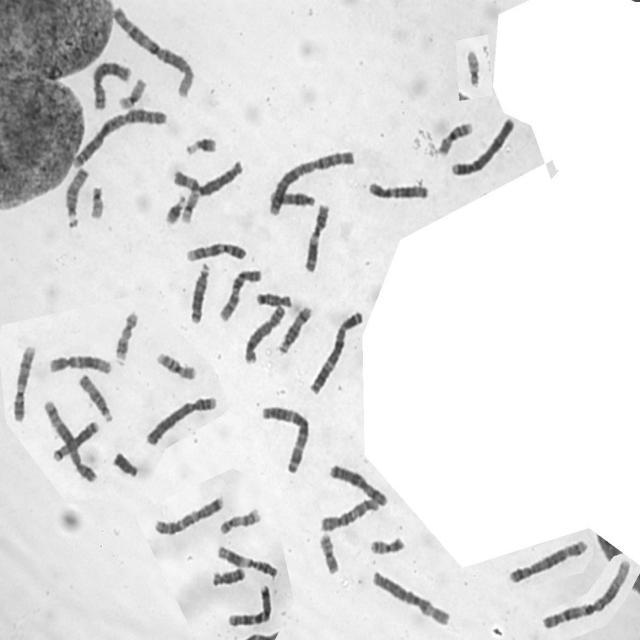A1: (109, 1, 197, 100), (538, 555, 632, 632)
A2: (68, 103, 169, 170), (265, 145, 357, 217)
A3: (306, 305, 366, 396), (258, 400, 312, 474)
B4: (448, 113, 516, 178), (142, 390, 218, 448)
B5: (39, 395, 98, 484), (505, 535, 590, 585)
C10: (216, 264, 263, 323), (317, 493, 381, 533)
C11: (213, 541, 279, 579), (300, 199, 332, 274)
C12: (46, 350, 113, 376), (364, 176, 430, 202)
C6: (369, 566, 452, 628), (169, 155, 245, 198)
C7: (150, 491, 226, 536), (224, 581, 273, 628)
C8: (240, 301, 287, 365), (88, 56, 132, 112)
C9: (10, 341, 37, 424), (182, 238, 248, 263)
D13: (50, 416, 100, 464), (186, 257, 212, 325)
D14: (50, 416, 100, 464), (274, 302, 314, 355)
D15: (75, 370, 114, 423), (62, 163, 90, 230)
E16: (435, 117, 475, 157), (152, 347, 198, 381)
E17: (112, 306, 140, 364), (216, 503, 262, 537)
E18: (208, 562, 247, 588), (253, 288, 293, 309)
F19: (115, 73, 148, 110), (178, 186, 200, 224)
F20: (316, 529, 341, 576), (366, 532, 407, 556)
G21: (162, 189, 186, 227), (181, 132, 219, 156)
G22: (463, 44, 482, 88), (86, 180, 106, 220)
X: (326, 459, 389, 508)
Y: (109, 447, 139, 479)
